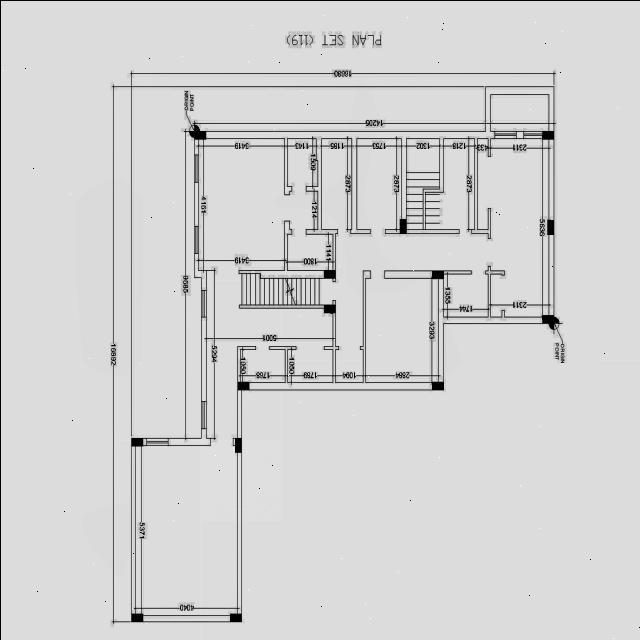Column: (542, 130, 554, 139), (541, 314, 553, 323), (234, 437, 241, 452), (130, 613, 142, 621), (130, 437, 142, 445), (193, 130, 205, 138), (547, 218, 553, 234), (431, 381, 443, 389), (431, 270, 443, 278), (229, 613, 241, 621), (236, 381, 248, 389), (323, 304, 335, 312), (323, 270, 335, 278), (399, 218, 405, 232)
Staircase: (236, 268, 336, 308)
Window: (145, 436, 168, 446), (493, 129, 516, 139), (199, 399, 206, 429), (199, 288, 206, 318), (522, 129, 542, 139), (192, 224, 198, 253), (193, 152, 198, 182)
